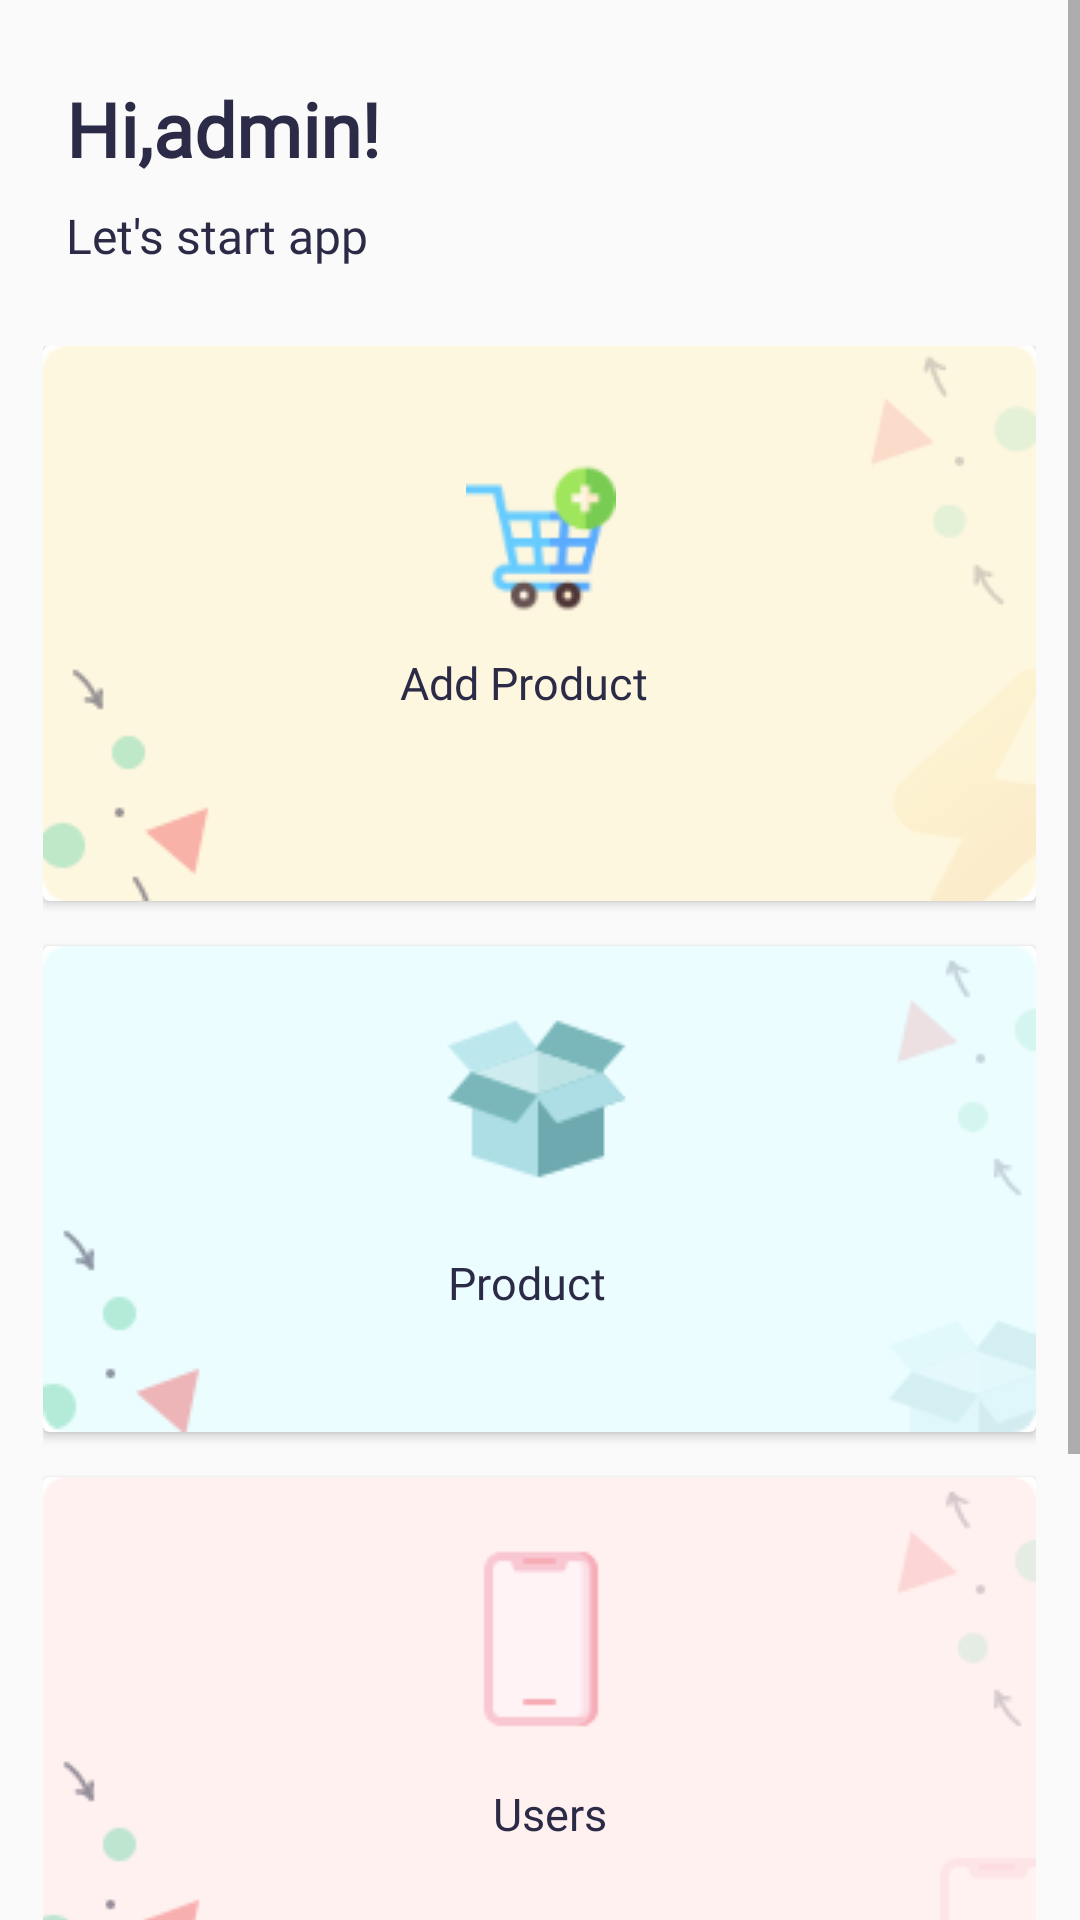

Locate icon controls on the screen. Image size 1080px×1920px, boxes as (x1, y1, x2, y2).
cart: (466, 466, 616, 611)
